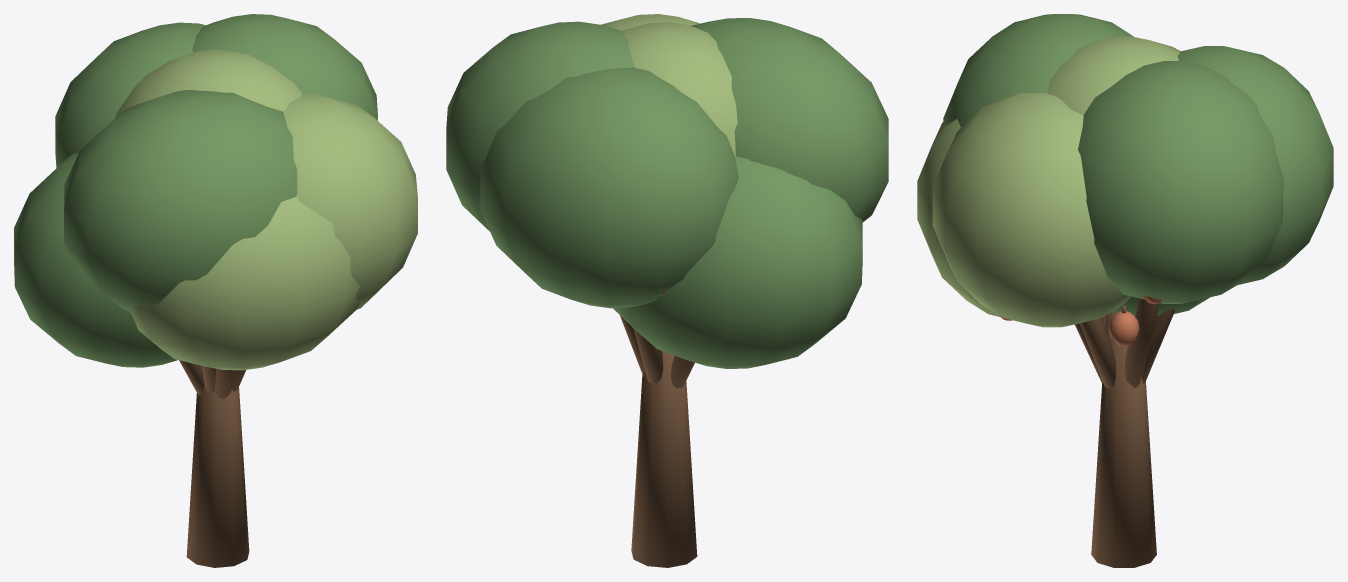
The model's file is apple.glb.
The picture shows the model from 3 angles, left to right: view 1: azimuth 30°, elevation 25°; view 2: azimuth 150°, elevation 25°; view 3: azimuth 270°, elevation 25°; orthographic projection. The views are drawn at different scales.
Visible parts, largest first — view 1: apple_World_Mesh; view 2: apple_World_Mesh; view 3: apple_World_Mesh.
Part boxes in pixels (left/top/right/bottom): apple_World_Mesh: left=14, top=14, right=417, bottom=567; apple_World_Mesh: left=446, top=14, right=888, bottom=567; apple_World_Mesh: left=917, top=14, right=1333, bottom=567.
Bounding box in the file's own units: 2.54 × 3.43 × 2.54.
